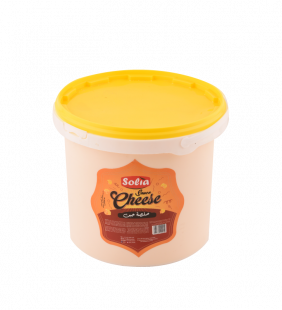SOLIA: (47, 64, 234, 271)
